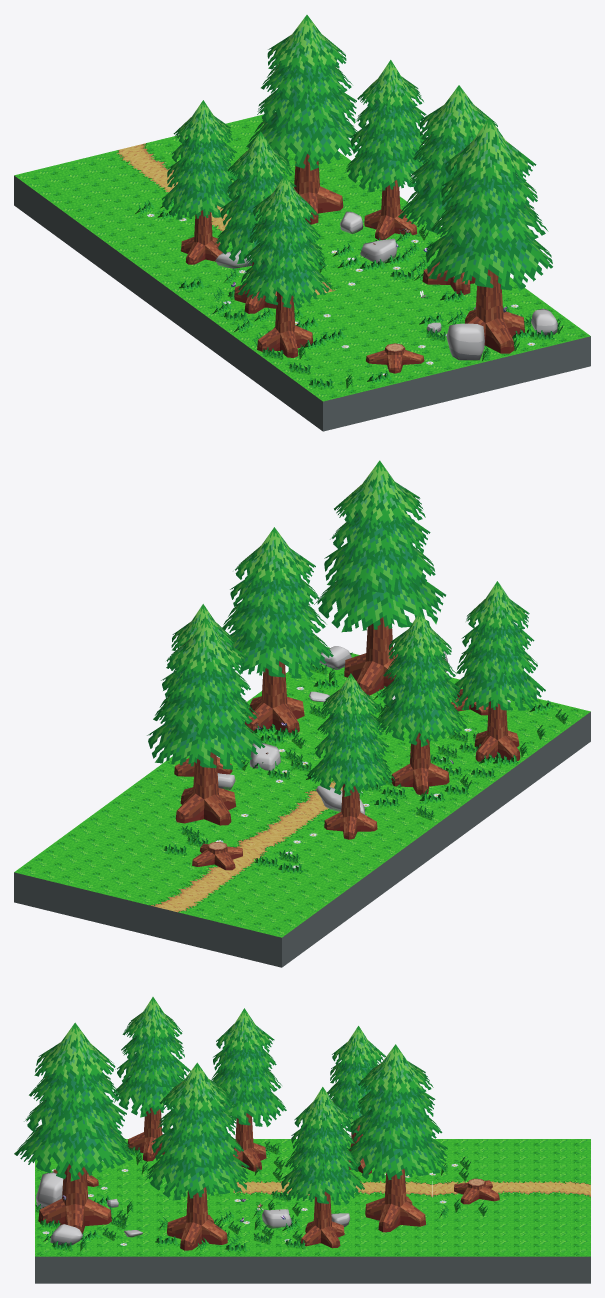
File: level_new.glb
3 views of the same model, one above another, from view 1: azimuth 30°, elevation 25°; view 2: azimuth 150°, elevation 25°; view 3: azimuth 270°, elevation 25° (orthographic). The views are drawn at different scales.
Visible parts, largest first — view 1: ground, ground_main_mat_0.001, tree_02, tree_01_main_mat_0.001, tree_00, tree_00_main_mat_0.003, tree_00_main_mat_0.001, tree_01, tree_00_main_mat_0.002, rock_02, tree_stump, rock_00_main_mat_0.001 (+1 smaller); view 2: ground_main_mat_0.001, ground, tree_02, tree_01_main_mat_0.001, tree_01, tree_00_main_mat_0.002, tree_00, tree_00_main_mat_0.001, ground_main_mat_0.003, tree_00_main_mat_0.003, ground_main_mat_0.002, tree_stump_main_mat_0.001 (+1 smaller); view 3: ground_main_mat_0.001, ground, tree_02, tree_01, tree_01_main_mat_0.001, tree_00_main_mat_0.003, tree_00, tree_00_main_mat_0.002, tree_00_main_mat_0.001, ground_main_mat_0.003, tree_stump_main_mat_0.001, ground_main_mat_0.002 (+3 smaller).
Part boxes in pixels (box(x1,y1,x2,y2)): ground: box(168, 225, 590, 431); ground_main_mat_0.001: box(14, 111, 427, 318); tree_02: box(426, 118, 552, 353); tree_01_main_mat_0.001: box(246, 15, 361, 224); tree_00: box(238, 175, 331, 357); tree_00_main_mat_0.003: box(344, 60, 430, 239); tree_00_main_mat_0.001: box(162, 100, 238, 264); tree_01: box(398, 85, 498, 294); tree_00_main_mat_0.002: box(214, 131, 296, 313); rock_02: box(446, 323, 484, 360); tree_stump: box(366, 343, 424, 373); rock_00_main_mat_0.001: box(360, 238, 397, 263); ground_main_mat_0.001: box(14, 759, 436, 967); ground: box(169, 647, 590, 853); tree_02: box(314, 460, 445, 695); tree_01_main_mat_0.001: box(147, 618, 265, 825); tree_01: box(222, 527, 333, 732); tree_00_main_mat_0.002: box(376, 612, 467, 794); tree_00: box(453, 581, 545, 761); tree_00_main_mat_0.001: box(307, 673, 394, 839); ground_main_mat_0.003: box(236, 808, 318, 849); tree_00_main_mat_0.003: box(157, 604, 251, 776); ground_main_mat_0.002: box(192, 840, 273, 881); tree_stump_main_mat_0.001: box(192, 842, 242, 870); ground_main_mat_0.001: box(312, 1139, 590, 1283); ground: box(35, 1139, 313, 1283); tree_02: box(14, 1022, 135, 1233); tree_01: box(145, 1062, 249, 1250); tree_01_main_mat_0.001: box(348, 1044, 447, 1232); tree_00_main_mat_0.003: box(281, 1087, 364, 1248); tree_00: box(112, 997, 190, 1161); tree_00_main_mat_0.002: box(211, 1008, 286, 1171); tree_00_main_mat_0.001: box(327, 1026, 385, 1174); ground_main_mat_0.003: box(354, 1181, 431, 1197); tree_stump_main_mat_0.001: box(454, 1178, 499, 1204); ground_main_mat_0.002: box(432, 1181, 511, 1197).
Bounding box in the file's own units: 15.11 × 12.57 × 29.02.
1 material, 1 textured.
